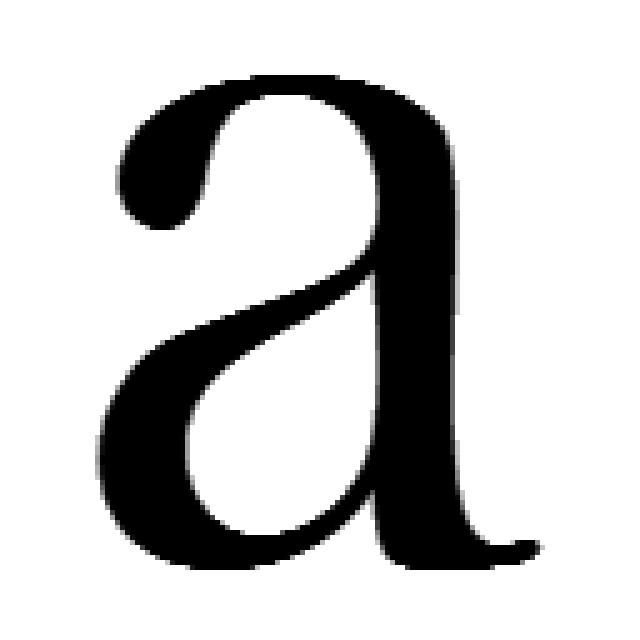A: (80, 60, 545, 580)
